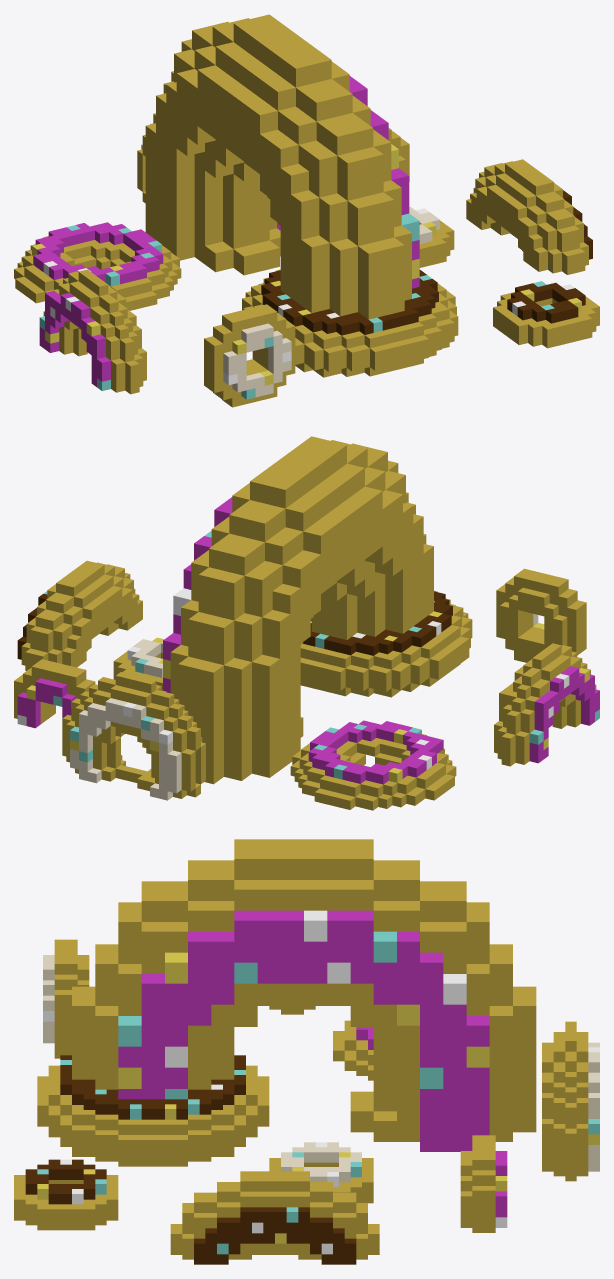
The model's file is donuts_inner.obj.
3 renders of one model, top to bottom at view 1: azimuth 30°, elevation 25°; view 2: azimuth 150°, elevation 25°; view 3: azimuth 270°, elevation 25°, orthographic. The views are drawn at different scales.
Visible parts, largest first — view 1: donuts; view 2: donuts; view 3: donuts.
Boxes of the visible parts, x1,y1,x2,y2 form: donuts: (14,14,599,407); donuts: (14,436,599,810); donuts: (14,839,599,1264).
Size of the model in its own units: 112 by 52 by 101.
